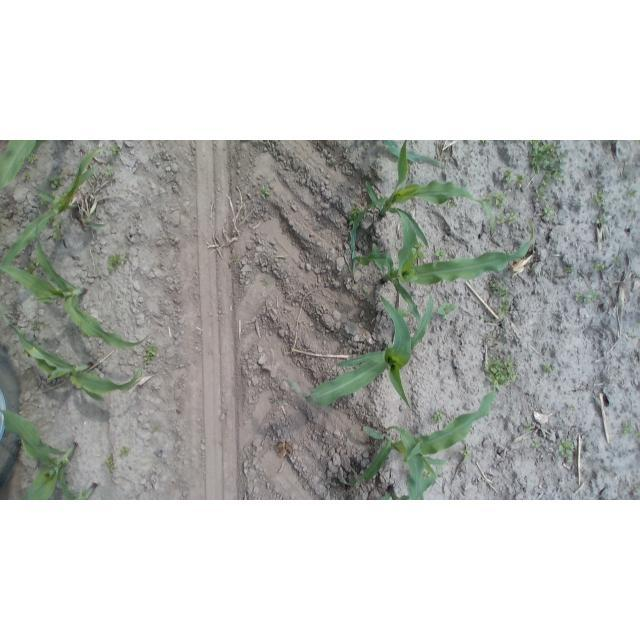Maize: (355, 209, 541, 329), (1, 215, 150, 352), (352, 144, 499, 275), (286, 290, 438, 406), (349, 387, 504, 493), (0, 306, 144, 402), (0, 143, 104, 269), (1, 408, 88, 500), (379, 141, 445, 178), (2, 141, 43, 192), (374, 469, 439, 500), (67, 481, 101, 499)
Weeds: (528, 140, 564, 180), (482, 355, 517, 388), (490, 279, 514, 317), (107, 252, 132, 272), (557, 437, 576, 461), (47, 218, 65, 242), (483, 190, 509, 206), (436, 301, 456, 319), (574, 289, 598, 304), (546, 169, 566, 186), (143, 341, 157, 365), (413, 240, 428, 262), (23, 259, 42, 275), (347, 202, 360, 224), (592, 188, 607, 207), (27, 319, 47, 333), (105, 454, 118, 474), (48, 175, 64, 190), (430, 410, 447, 424), (534, 185, 548, 202), (260, 183, 273, 201), (501, 168, 514, 186), (592, 260, 608, 273), (621, 420, 634, 436), (433, 248, 449, 260), (543, 202, 555, 218), (118, 445, 132, 458), (529, 438, 543, 451), (19, 169, 31, 184), (486, 332, 499, 345), (459, 448, 473, 460), (596, 212, 608, 226), (269, 396, 283, 408), (110, 143, 122, 157), (506, 212, 518, 225), (541, 361, 553, 374), (522, 422, 534, 435), (104, 165, 116, 177), (625, 187, 637, 199), (516, 175, 525, 190), (564, 265, 576, 276), (397, 307, 408, 319), (28, 153, 39, 164), (447, 199, 458, 210), (613, 254, 623, 265), (496, 214, 506, 225), (150, 425, 160, 435), (486, 314, 496, 324), (567, 403, 577, 413), (633, 482, 640, 496), (423, 470, 432, 480), (629, 207, 637, 217), (478, 141, 492, 146), (606, 141, 619, 146), (363, 288, 370, 297), (629, 332, 636, 340), (264, 279, 271, 286), (634, 432, 640, 440), (344, 265, 349, 271), (369, 446, 374, 450), (530, 357, 534, 362), (161, 263, 165, 266), (531, 273, 535, 276)
